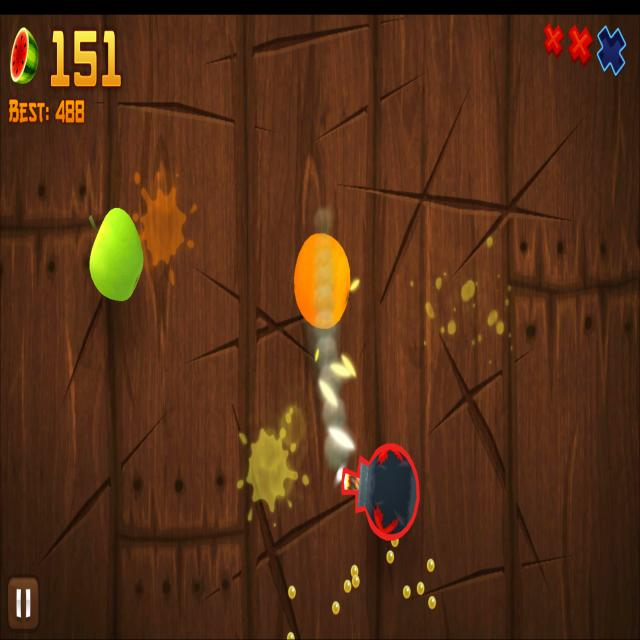bomb: (342, 443, 421, 542)
fruit: (293, 234, 350, 328), (90, 208, 144, 302)
